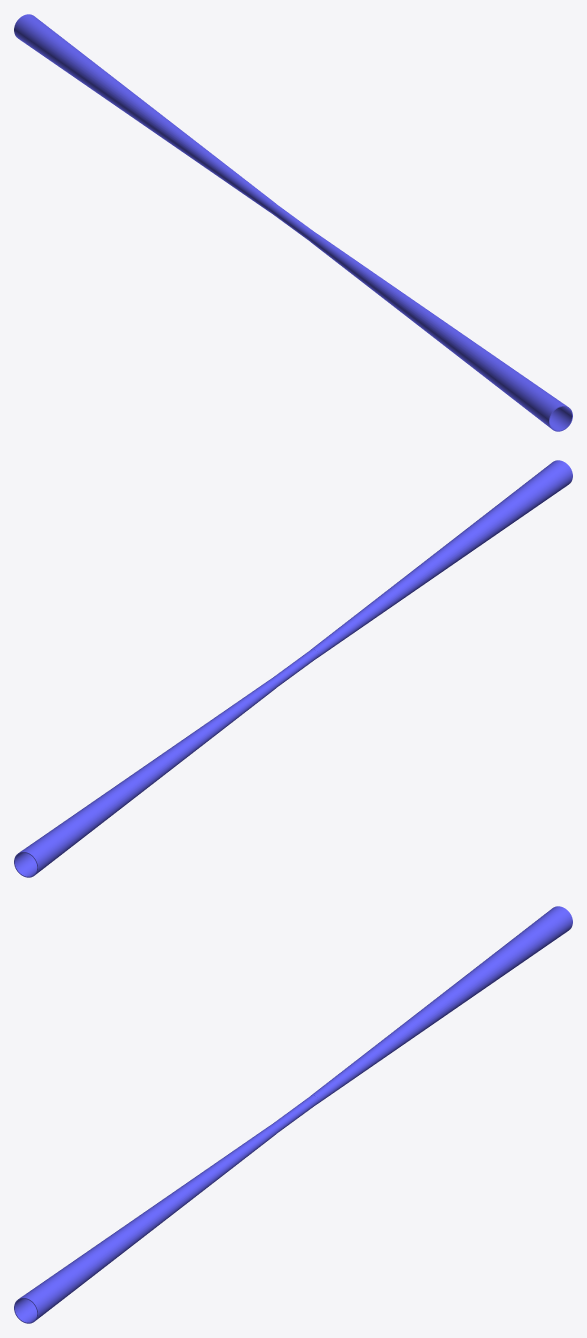
The model's file is IDEA_o1_v03.gltf.
3 views of the same model, one above another, from view 1: azimuth 30°, elevation 25°; view 2: azimuth 150°, elevation 25°; view 3: azimuth 330°, elevation 25° (orthographic).
Parts seen in each view (by area): view 1: tube_AlBeMet162_wall_6, tube_AlBeMet162_wall2_7; view 2: tube_AlBeMet162_wall2_7, tube_AlBeMet162_wall_6; view 3: tube_AlBeMet162_wall_6, tube_AlBeMet162_wall2_7.
Part boxes in pixels (box(x1,y1,x2,y2)): tube_AlBeMet162_wall_6: box(309, 232, 572, 431); tube_AlBeMet162_wall2_7: box(14, 14, 275, 211); tube_AlBeMet162_wall2_7: box(14, 678, 277, 877); tube_AlBeMet162_wall_6: box(311, 460, 572, 657); tube_AlBeMet162_wall_6: box(14, 1124, 277, 1323); tube_AlBeMet162_wall2_7: box(311, 906, 572, 1103).
Bounding box in the file's own units: 6.18 × 6.15 × 238.
